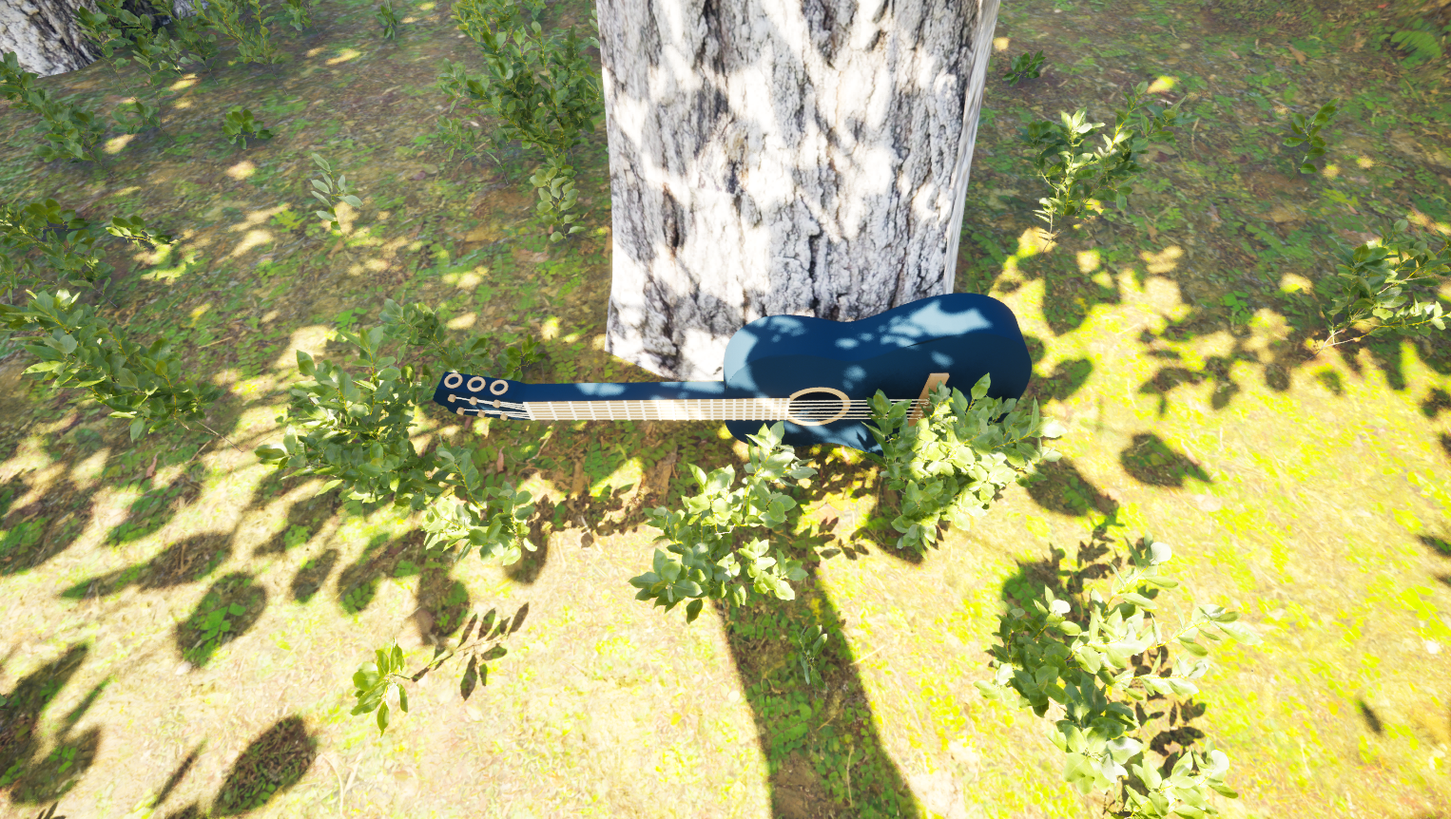Guitar: (377, 292, 1069, 468)
